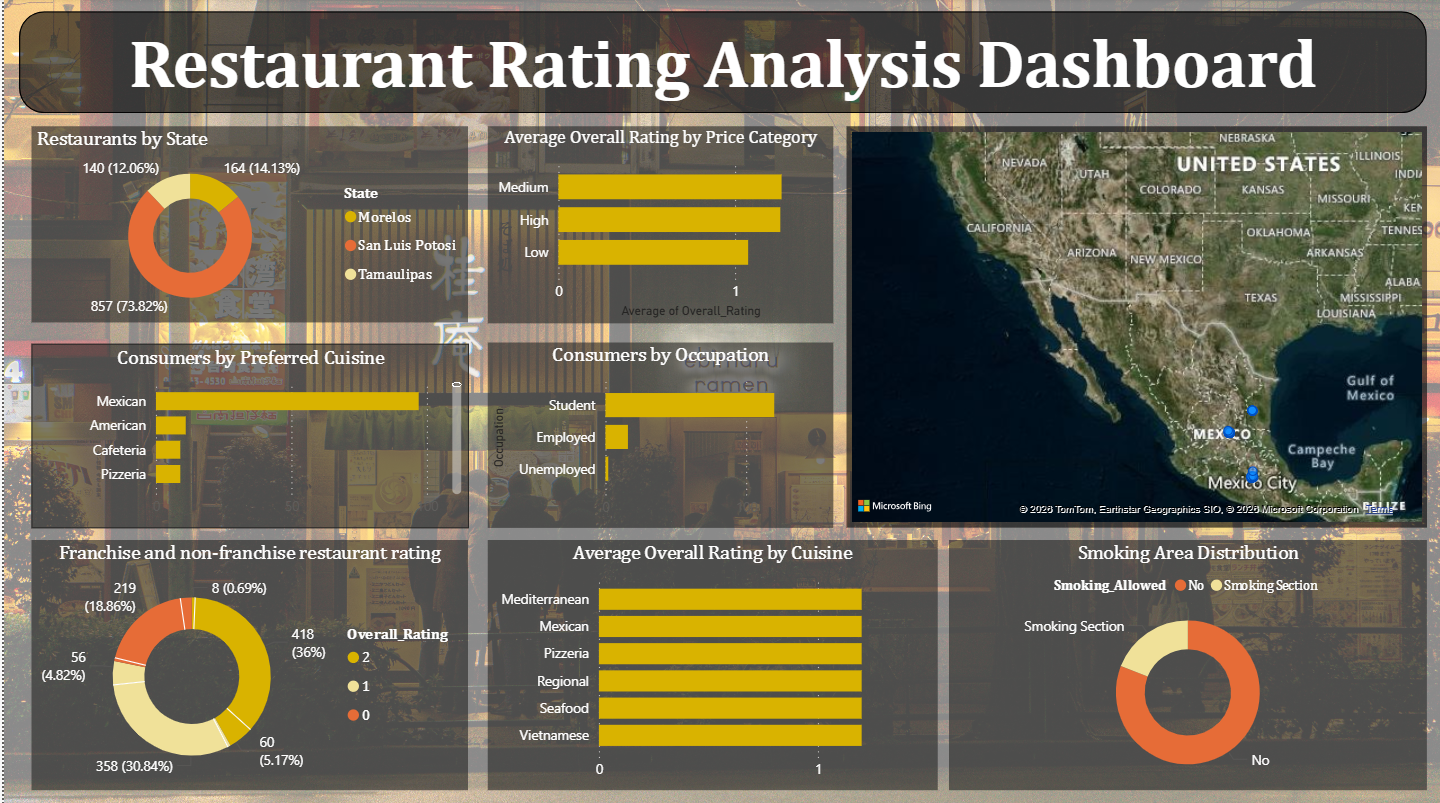

Layout of this report page (visuals, bound fields, positions):
{"tool":"powerbi","page":{"name":"HOME.01","canvas":[1280,720],"ordinal":1},"visuals":[{"type":"donutChart","title":"Franchise and non-franchise restaurant rating ","fields":{"Category":["ratings.Overall_Rating"],"Y":["CountNonNull(ratings.Restaurant_ID)"],"Series":["restaurants.Franchise"]},"box":[24.7,480.3,388.3,222.3],"z":0},{"type":"donutChart","title":" Restaurants by State","fields":{"Y":["CountNonNull(ratings.Restaurant_ID)"],"Series":["consumers.State"]},"box":[24.7,112.5,388.3,174.3],"z":1000},{"type":"barChart","title":"Consumers by Preferred Cuisine","fields":{"Category":["consumer_preferences.Preferred Cuisine"],"Y":["CountNonNull(consumer_preferences.Consumer ID)"]},"box":[24.1,305.2,388.5,164.1],"z":2000},{"type":"shape","box":[13.7,9.6,1251.5,90.6],"z":3000},{"type":"barChart","title":"Consumers by Occupation","fields":{"Category":["consumers.Occupation"],"Y":["CountNonNull(consumers.Consumer_ID)"]},"box":[429.5,304.6,307.4,164.7],"z":4000},{"type":"map","fields":{"Y":["consumers.Latitude"],"X":["consumers.Longitude"]},"box":[749.2,112.5,516,356.8],"z":5000},{"type":"donutChart","title":"Smoking Area Distribution","fields":{"Y":["CountNonNull(ratings.Restaurant_ID)"],"Category":["restaurants.Smoking_Allowed"]},"box":[840,480,425,222.5],"z":6000},{"type":"clusteredBarChart","title":"Average Overall Rating by Price Category","fields":{"Y":["Avg(ratings.Overall_Rating)"],"Category":["restaurants.Price"]},"box":[430,112.5,307.5,175],"z":7000},{"type":"clusteredBarChart","title":"Average Overall Rating by Cuisine","fields":{"Category":["restaurant_cuisines.Cuisine"],"Y":["Avg(ratings.Overall_Rating)"]},"box":[430,480,400,222.5],"z":8000}]}

Visuals, with their boxes in screenshot pixels (x1, y1, x2, y2), scaled from the page's 1280x720 canvas onto the 1440x803 screenshot:
"Franchise and non-franchise restaurant rating " donutChart: bbox=(28, 536, 465, 784)
" Restaurants by State" donutChart: bbox=(28, 125, 465, 320)
"Consumers by Preferred Cuisine" barChart: bbox=(27, 340, 464, 523)
shape: bbox=(15, 11, 1423, 112)
"Consumers by Occupation" barChart: bbox=(483, 340, 829, 523)
map - consumers.Latitude x consumers.Longitude: bbox=(843, 125, 1423, 523)
"Smoking Area Distribution" donutChart: bbox=(945, 535, 1423, 783)
"Average Overall Rating by Price Category" clusteredBarChart: bbox=(484, 125, 830, 321)
"Average Overall Rating by Cuisine" clusteredBarChart: bbox=(484, 535, 934, 783)
